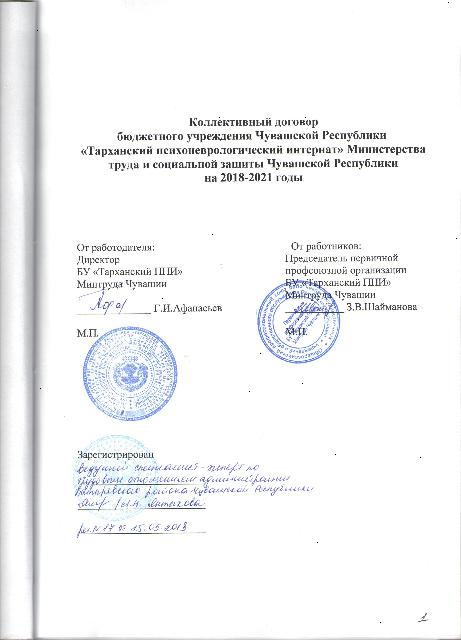stamp: (83, 326, 177, 420), (258, 280, 340, 364)
